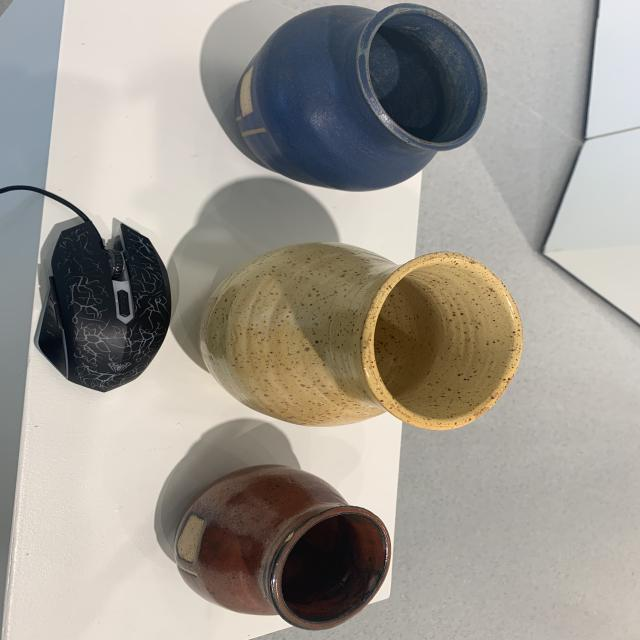Mouse: (34, 210, 180, 398)
